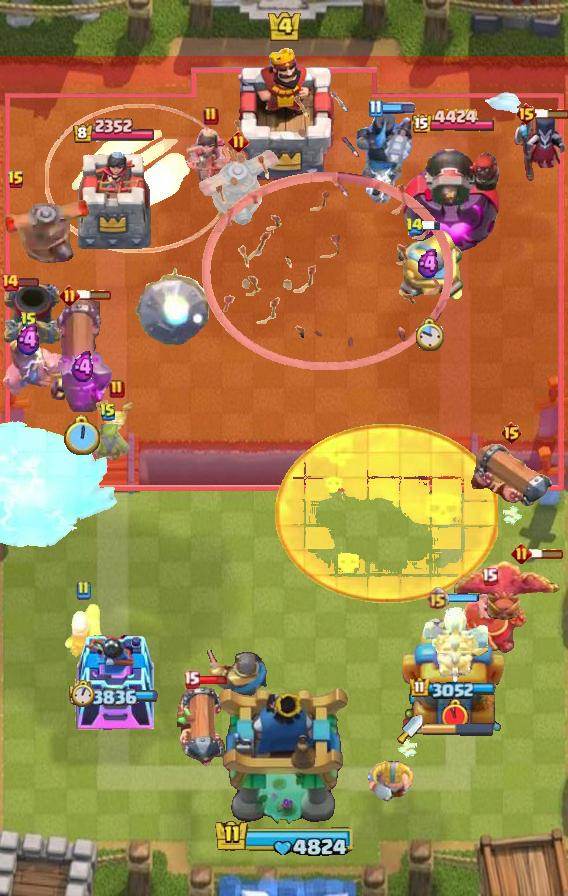bar: (402, 615, 507, 731)
battle-healer: (467, 441, 555, 513), (177, 681, 225, 771)
clock: (210, 818, 358, 860)
dark-prince: (0, 181, 96, 271), (189, 143, 287, 225)
electro-spirit: (14, 324, 44, 356), (415, 249, 443, 279), (71, 351, 96, 384)
elixir: (64, 414, 102, 457), (414, 317, 444, 353), (441, 699, 469, 733), (71, 680, 95, 708)
elixir-collector: (450, 581, 528, 655)
emote: (380, 102, 416, 114), (77, 289, 113, 301), (529, 548, 565, 560), (4, 276, 40, 287), (536, 108, 568, 120), (446, 593, 480, 603), (198, 675, 230, 685), (422, 220, 441, 232)
firecracker: (207, 650, 269, 698)
freeze: (0, 336, 74, 404)
furnace: (52, 298, 114, 412)
goblin-giant: (367, 759, 415, 802)
ice-spirit-evolution: (96, 397, 138, 431)
ice-wizard: (46, 104, 234, 253)
inferno-dragon: (355, 107, 415, 203)
king-tower: (216, 684, 352, 826), (229, 43, 339, 181)
king-tower-bar: (423, 722, 495, 736)
mega-knight: (0, 418, 120, 554)
mini-pekka: (422, 601, 488, 687)
mother-witch: (454, 559, 568, 625)
musketeer: (0, 281, 64, 347)
phoenix-egg: (274, 425, 497, 604)
queen-tower: (71, 144, 157, 255), (73, 623, 155, 731)
rascal-boy: (512, 110, 568, 186)
royal-recruit: (392, 229, 466, 305)
selected: (412, 108, 497, 136), (72, 118, 156, 145), (410, 677, 496, 699), (68, 686, 160, 706)
skeleton-barrel: (201, 90, 455, 370)
skeleton-dragon: (185, 125, 237, 183)
text: (514, 102, 537, 126), (500, 421, 523, 445), (427, 587, 450, 610), (227, 131, 248, 153), (59, 285, 80, 307), (511, 544, 532, 565), (0, 272, 20, 292), (7, 170, 25, 190), (20, 311, 38, 331), (99, 402, 117, 422), (404, 217, 423, 235), (183, 671, 201, 690), (481, 567, 499, 585), (203, 106, 219, 126), (109, 379, 125, 399), (75, 580, 91, 600), (369, 99, 383, 118)
tombstone: (62, 601, 104, 659)
tower-bar: (401, 138, 505, 256)
x-bow: (134, 267, 217, 347)
zap: (86, 424, 130, 466)
